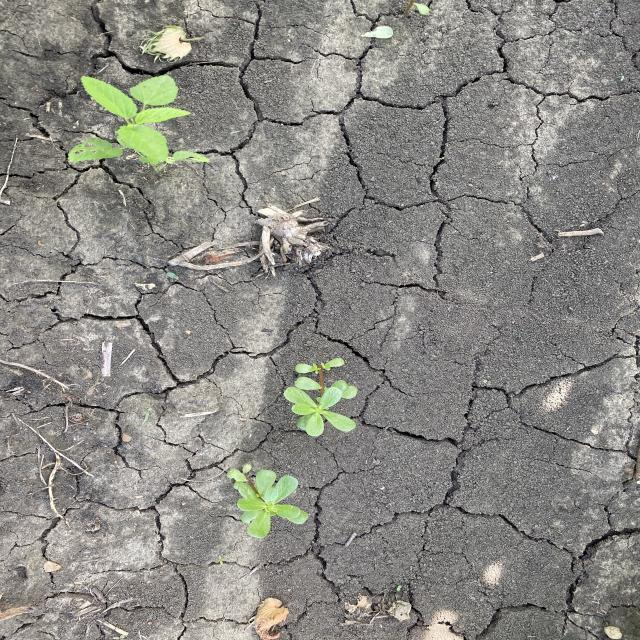PricklySida: (64, 73, 214, 170)
Purslane: (225, 462, 312, 542), (280, 356, 360, 439)
